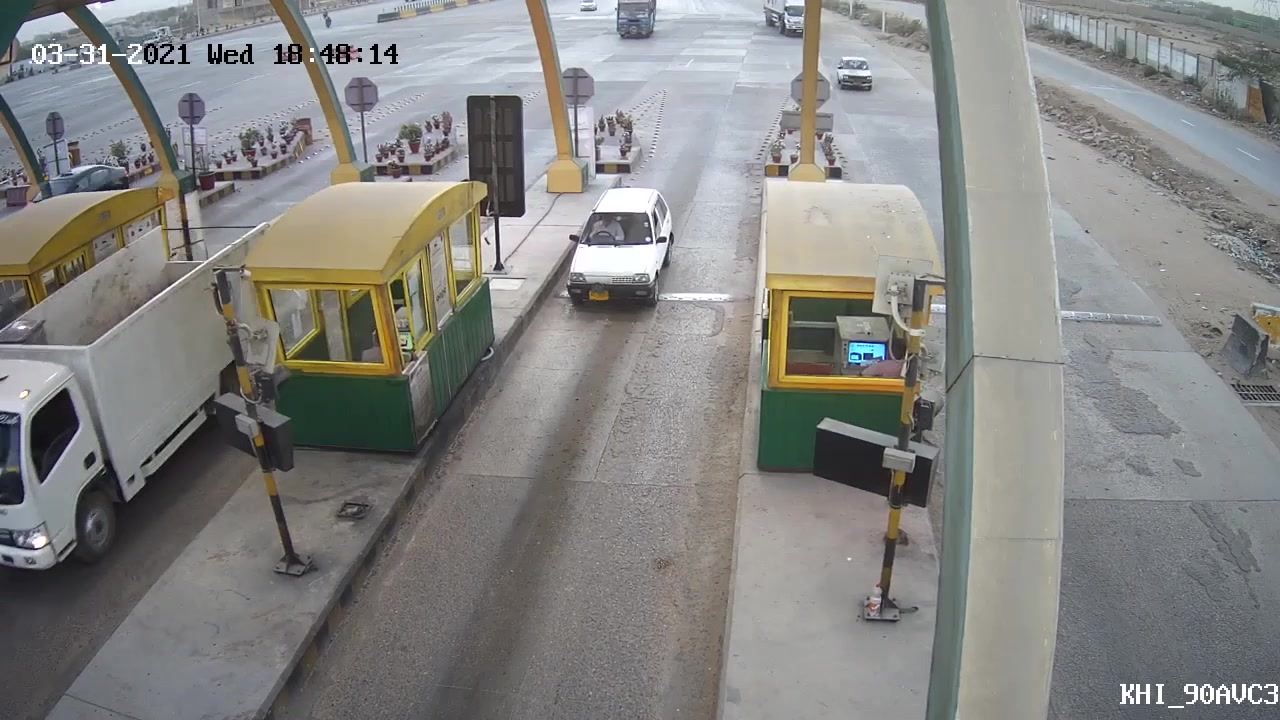F1: (553, 181, 688, 323)
